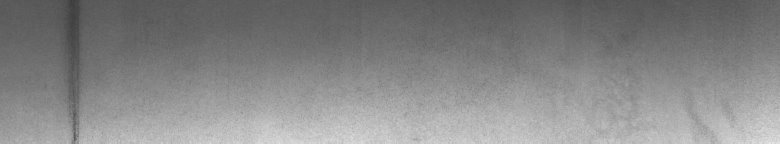hd: (68, 4, 84, 136)
